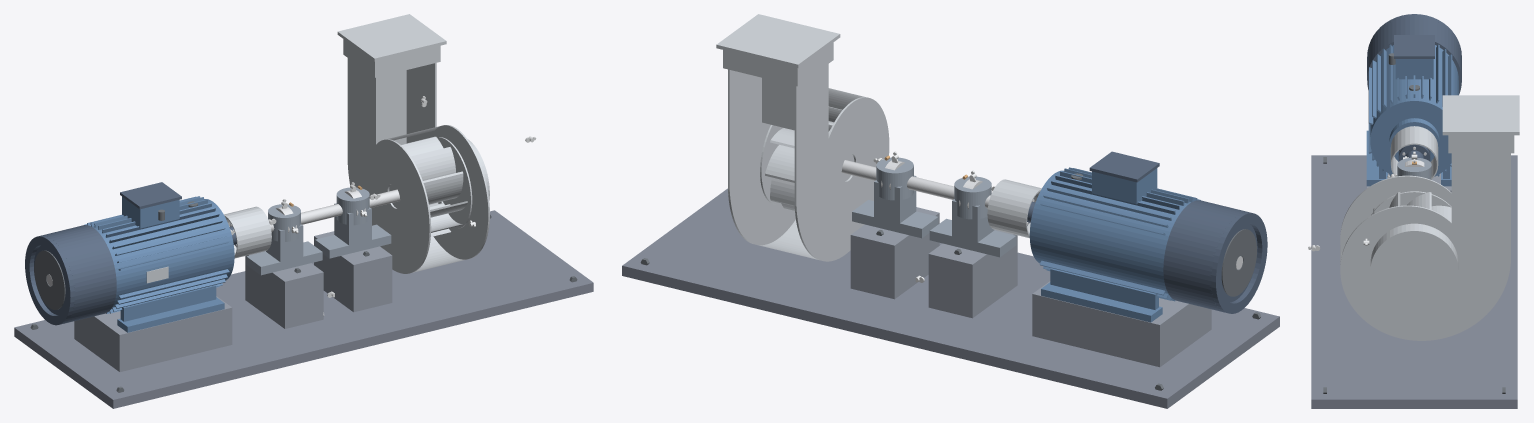
File: fan.glb
3 views of the same model, side by side, from view 1: azimuth 30°, elevation 25°; view 2: azimuth 150°, elevation 25°; view 3: azimuth 270°, elevation 25° (orthographic). The views are drawn at different scales.
Parts seen in each view (by area): view 1: PART_001, CASING_FANHOUSING_075, CASING_MOTORBODY_006, PART_022, CASING_FANHOUSING_076, CASING_FINS_009, CASING_COWL_010, PART_058, PART_069, CASING_FANHOUSING_081, CASING_FANHOUSING_074, CASING_COWL_011 (+18 smaller); view 2: PART_001, CASING_FANHOUSING_075, CASING_MOTORBODY_006, PART_022, CASING_FANHOUSING_076, CASING_COWL_010, PART_058, PART_069, CASING_FINS_009, CASING_FANHOUSING_081, CASING_FANHOUSING_074, CASING_COWL_011 (+19 smaller); view 3: PART_001, CASING_FANHOUSING_076, CASING_INLET_095, CASING_FANHOUSING_081, CASING_ENDBELL_007, CASING_FINS_009, CASING_FANHOUSING_075, CASING_COWL_010, CASING_MOTORBODY_006, CASING_FANHOUSING_080, CASING_GUARD_050, PART_014 (+9 smaller).
Part boxes in pixels (bbox=[...]): PART_001: bbox=[14, 210, 593, 408]; CASING_FANHOUSING_075: bbox=[347, 58, 431, 273]; CASING_MOTORBODY_006: bbox=[92, 199, 233, 308]; PART_022: bbox=[74, 296, 232, 371]; CASING_FANHOUSING_076: bbox=[406, 63, 489, 259]; CASING_FINS_009: bbox=[84, 196, 229, 313]; CASING_COWL_010: bbox=[34, 225, 116, 323]; PART_058: bbox=[245, 251, 323, 328]; PART_069: bbox=[314, 231, 392, 312]; CASING_FANHOUSING_081: bbox=[337, 14, 446, 61]; CASING_FANHOUSING_074: bbox=[377, 70, 465, 272]; CASING_COWL_011: bbox=[25, 235, 75, 325]; PART_001: bbox=[622, 188, 1279, 408]; CASING_FANHOUSING_075: bbox=[794, 64, 889, 261]; CASING_MOTORBODY_006: bbox=[1030, 171, 1190, 295]; PART_022: bbox=[1032, 281, 1211, 367]; CASING_FANHOUSING_076: bbox=[728, 69, 795, 245]; CASING_COWL_010: bbox=[1163, 200, 1257, 311]; PART_058: bbox=[928, 229, 1017, 318]; PART_069: bbox=[850, 207, 939, 299]; CASING_FINS_009: bbox=[1039, 167, 1200, 301]; CASING_FANHOUSING_081: bbox=[716, 14, 840, 67]; CASING_FANHOUSING_074: bbox=[758, 78, 865, 259]; CASING_COWL_011: bbox=[1209, 212, 1267, 313]; PART_001: bbox=[1311, 155, 1517, 408]; CASING_FANHOUSING_076: bbox=[1340, 153, 1510, 340]; CASING_INLET_095: bbox=[1370, 223, 1458, 310]; CASING_FANHOUSING_081: bbox=[1442, 95, 1519, 135]; CASING_ENDBELL_007: bbox=[1370, 96, 1451, 176]; CASING_FINS_009: bbox=[1368, 44, 1452, 176]; CASING_FANHOUSING_075: bbox=[1340, 175, 1451, 253]; CASING_COWL_010: bbox=[1367, 16, 1461, 94]; CASING_MOTORBODY_006: bbox=[1370, 45, 1458, 133]; CASING_FANHOUSING_080: bbox=[1448, 135, 1514, 153]; CASING_GUARD_050: bbox=[1390, 126, 1438, 179]; PART_014: bbox=[1394, 35, 1434, 58].
Size of the model in its own units: 4.34 by 1.88 by 1.54.
